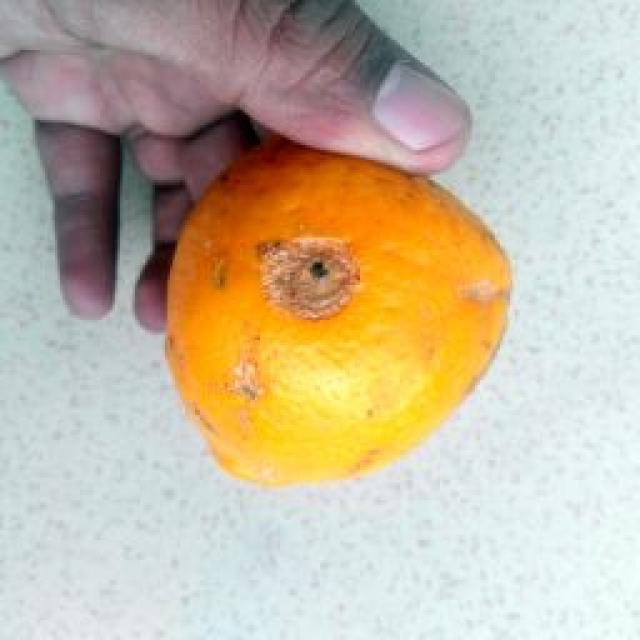Bad_Orange: (166, 139, 511, 483)
